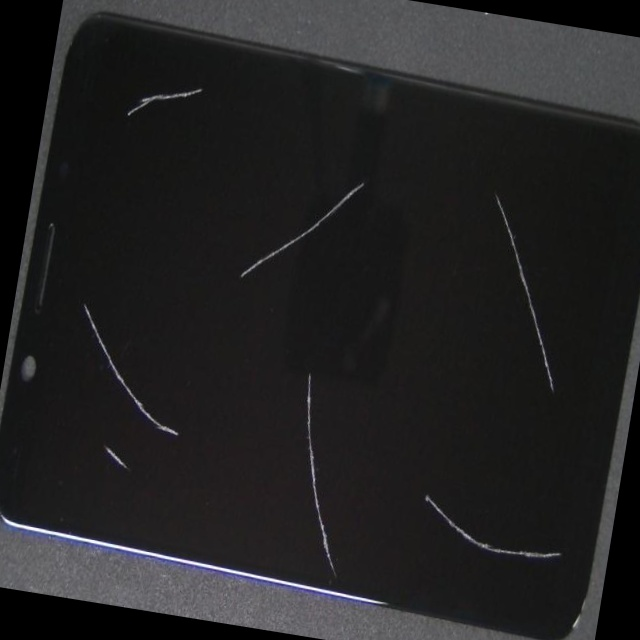scratch: (263, 0, 521, 309), (56, 232, 225, 614)
